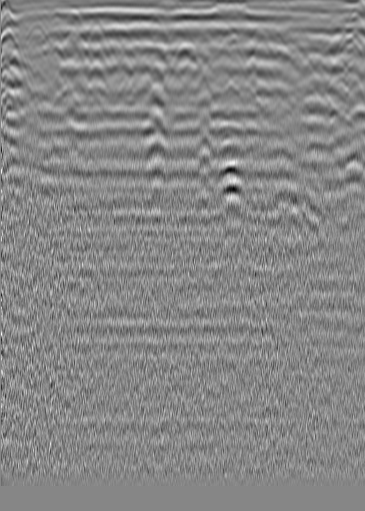가스: (212, 159, 251, 193)
상수: (337, 32, 364, 57)
오수: (20, 22, 53, 49)
우수: (167, 40, 200, 71)
